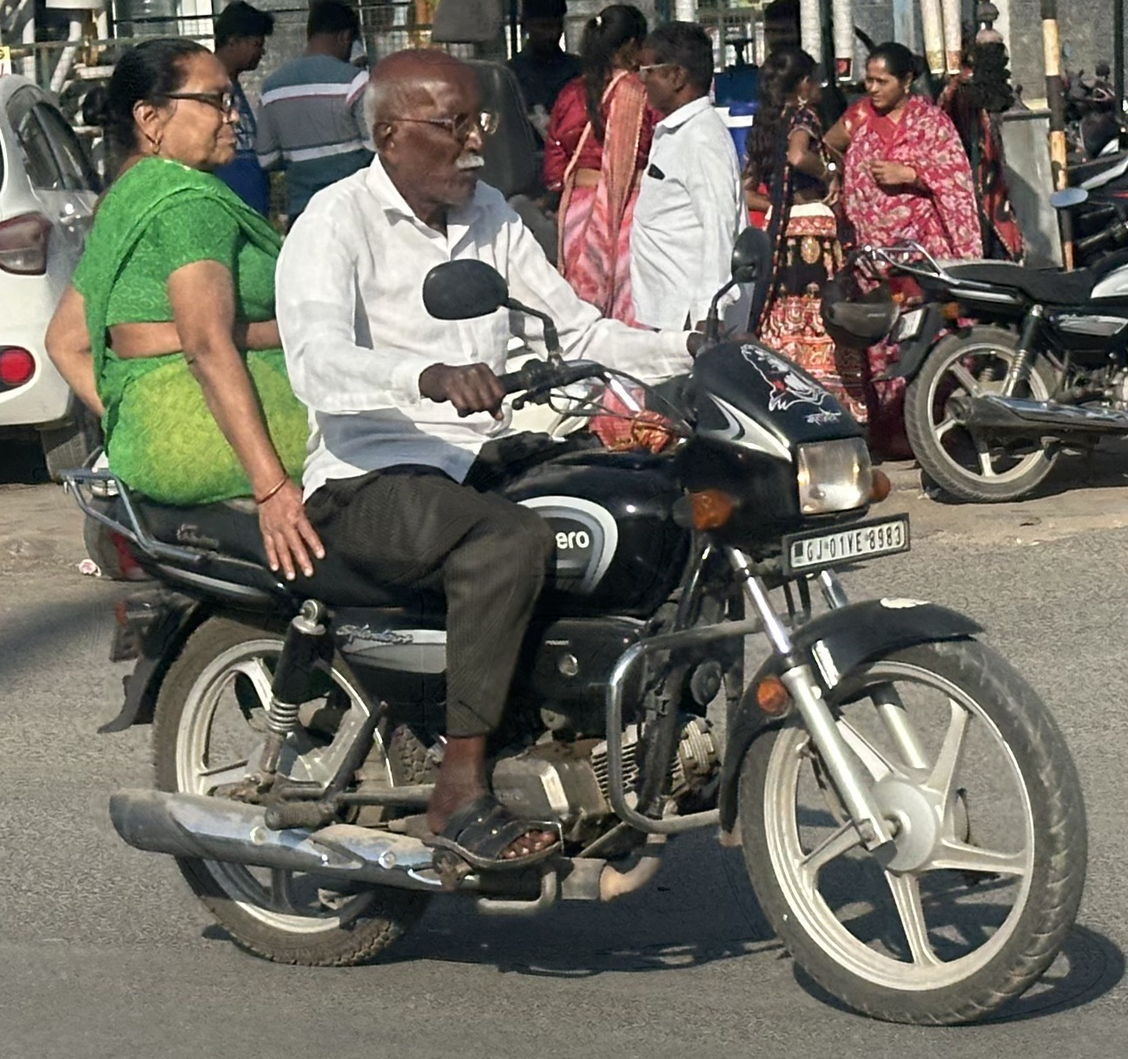BikeWithRider: (34, 21, 1098, 1033)
NoHelmet: (348, 40, 506, 215), (96, 30, 255, 184)
